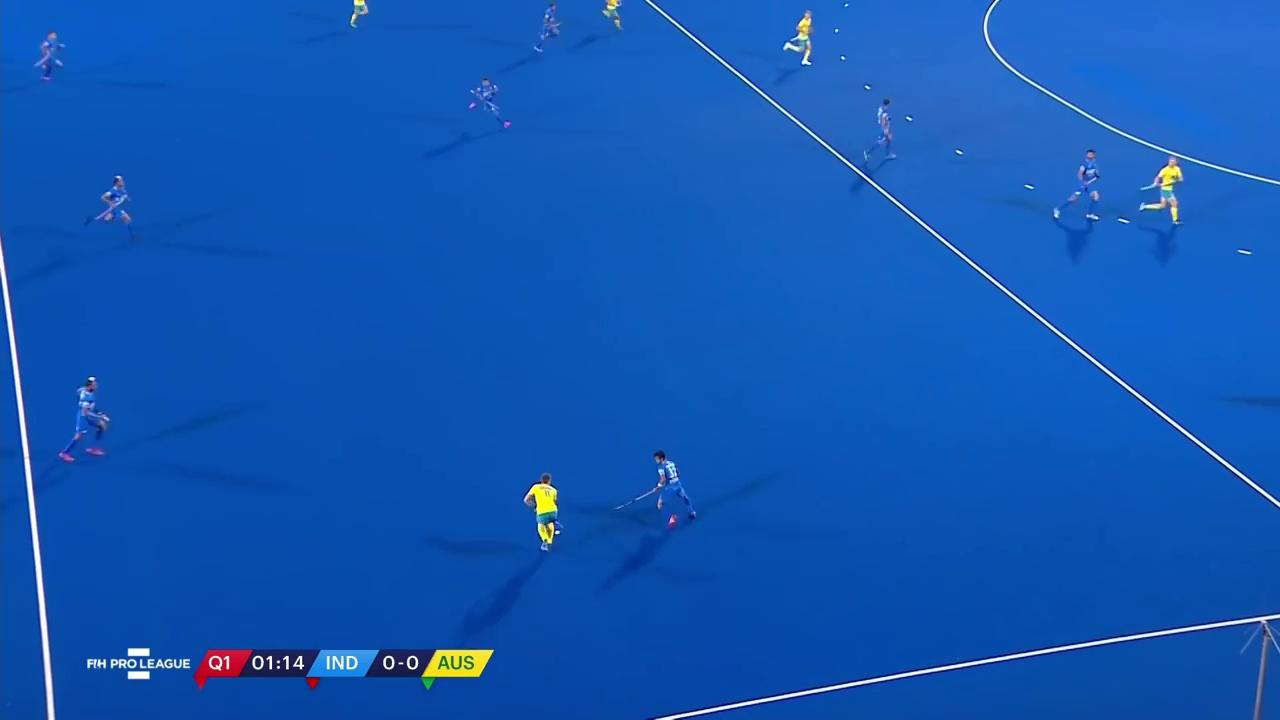ball: (552, 527, 564, 538)
